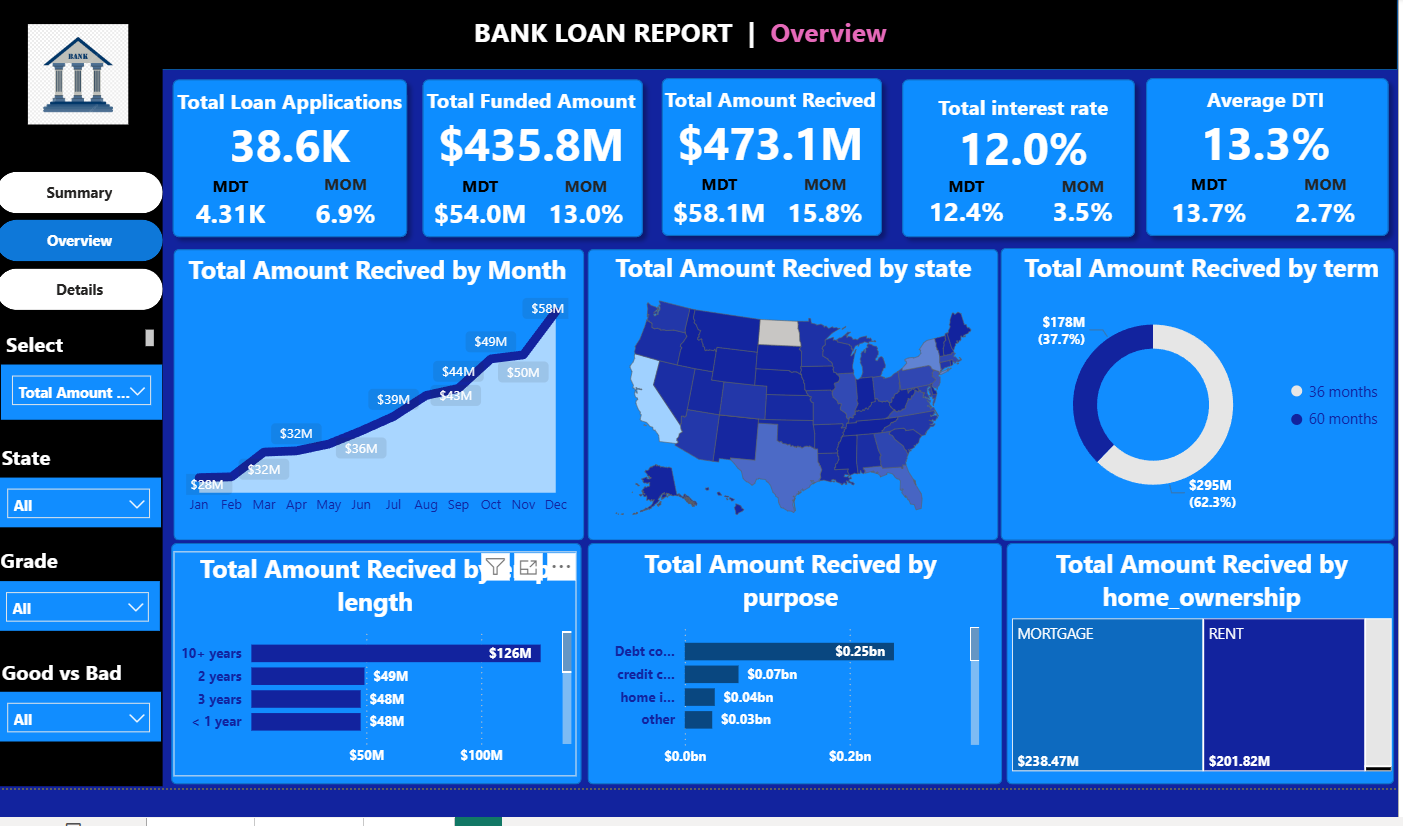

Layout of this report page (visuals, bound fields, positions):
{"tool":"powerbi","page":{"name":"Overview","canvas":[1280,720],"ordinal":1},"visuals":[{"type":"shape","box":[0,0,1280.1,65.8],"z":0},{"type":"textbox","box":[431.8,8.9,416.6,46.8],"z":1000},{"type":"shape","box":[0,0,153.2,719.2],"z":2000},{"type":"shape","box":[599.6,64.1,218.9,162.1],"z":3000,"group":"g3"},{"type":"shape","box":[1040.3,64.1,239.3,162.1],"z":3000,"group":"g5"},{"type":"shape","box":[819.2,64.8,230.4,162.1],"z":3000,"group":"g4"},{"type":"group","id":"g1","title":"Group 1","box":[149.2,65.5,241.2,163.1],"z":3000},{"type":"shape","box":[153.7,65.5,232,162.1],"z":3000,"group":"g1"},{"type":"shape","box":[380.7,65.5,219,162.1],"z":3000,"group":"g2"},{"type":"group","id":"g2","title":"Group 1","box":[380.7,65.5,218.9,161.8],"z":4000},{"type":"card","title":"Total Amount Recived","fields":{"Values":["financial_loan.Total Amount Recived"]},"box":[599.7,79.2,216.2,78.8],"z":4000,"group":"g3"},{"type":"card","title":"Average DTI","fields":{"Values":["financial_loan.Avg DTI"]},"box":[1040.4,79.2,236.3,78.8],"z":4000,"group":"g5"},{"type":"card","title":"Total Funded Amount","fields":{"Values":["financial_loan.Total_Amount"]},"box":[380.8,80.6,216.3,78.8],"z":4000,"group":"g2"},{"type":"card","title":"Total Loan Applications","fields":{"Values":["Date Table.Total_Apps"]},"box":[149.2,81.5,240.1,77.3],"z":4000,"group":"g1"},{"type":"card","title":"Total interest rate","fields":{"Values":["financial_loan.Total Int Rate"]},"box":[820,86.2,236.8,72.3],"z":4000,"group":"g4"},{"type":"group","id":"g3","title":"Group 1","box":[599.6,64.1,218.9,163.1],"z":5000},{"type":"card","title":"MDT","fields":{"Values":["financial_loan.MTD Total Amount Recived"]},"box":[608.9,159.4,103.5,54.4],"z":5000,"group":"g3"},{"type":"card","title":"MDT","fields":{"Values":["financial_loan.MTD Avg DTI"]},"box":[1050.4,159.4,113.1,54.4],"z":5000,"group":"g5"},{"type":"card","title":"MDT","fields":{"Values":["financial_loan.MTD Total intrest rate"]},"box":[830,159.8,113.4,49.9],"z":5000,"group":"g4"},{"type":"card","title":"MDT","fields":{"Values":["financial_loan.MTD Total Amount"]},"box":[390,160.8,103.5,54.4],"z":5000,"group":"g2"},{"type":"card","title":"MDT","fields":{"Values":["Date Table.MTD Loan Application"]},"box":[178,161.5,73.6,54.4],"z":5000,"group":"g1"},{"type":"group","id":"g4","title":"Group 1","box":[819.2,64.8,235.7,163.1],"z":6000},{"type":"card","title":"MOM","fields":{"Values":["financial_loan.MoM Total Amount Recived"]},"box":[705.8,159.4,103.5,54.4],"z":6000,"group":"g3"},{"type":"card","title":"MOM","fields":{"Values":["financial_loan.MoM Avg DTI"]},"box":[1156.4,159.4,113.1,54.4],"z":6000,"group":"g5"},{"type":"card","title":"MOM","fields":{"Values":["financial_loan.MoM int rate"]},"box":[936.2,159.8,113.4,49.9],"z":6000,"group":"g4"},{"type":"card","title":"MOM","fields":{"Values":["financial_loan.MoM"]},"box":[277.5,160.2,86.1,55.8],"z":6000,"group":"g1"},{"type":"card","title":"MOM","fields":{"Values":["financial_loan.MoM Total Amount"]},"box":[487,160.8,103.5,54.4],"z":6000,"group":"g2"},{"type":"group","id":"g5","title":"Group 1","box":[0.6,64.1,1279,418.6],"z":7000,"group":"g6"},{"type":"slicer","fields":{"Values":["financial_loan.grade"]},"box":[-0.4,531.6,150.7,45.6],"z":7000},{"type":"slicer","fields":{"Values":["financial_loan.Good vs Bad loan"]},"box":[0.7,632.7,150.7,45.6],"z":8000},{"type":"textbox","box":[5.1,297.5,144.3,36.7],"z":9000},{"type":"textbox","box":[0.1,495.5,77.2,36.7],"z":10000},{"type":"textbox","box":[1.3,596.8,151.1,37.5],"z":11000},{"type":"group","id":"g6","title":"Group 5","box":[0.6,64.1,1279,418.6],"z":12000},{"type":"shape","box":[163.3,229.2,374.8,265.9],"z":13000},{"type":"slicer","fields":{"Values":["Select measure.Select measure"]},"box":[5.1,334.3,146.9,50.6],"z":14000},{"type":"slicer","fields":{"Values":["financial_loan.address_state"]},"box":[0.6,437.2,150.7,45.6],"z":14001,"group":"g5"},{"type":"shape","box":[540.6,229.2,374.8,265.9],"z":15000},{"type":"shapeMap","fields":{"Value":["financial_loan.Total Amount Recived"],"Category":["financial_loan.address_state"]},"box":[538.1,230.4,379.8,257],"z":16000},{"type":"textbox","box":[1.1,401.1,77.2,36.7],"z":16002,"group":"g6"},{"type":"shape","box":[918,227.9,359.6,267.2],"z":17000},{"type":"donutChart","fields":{"Y":["financial_loan.Total Amount Recived"],"Category":["financial_loan.term"]},"box":[926.4,230.6,349.8,251.4],"z":18000},{"type":"shape","box":[160.7,497.5,374.4,220.3],"z":19000},{"type":"barChart","fields":{"Y":["financial_loan.Total Amount Recived"],"Category":["financial_loan.emp_length"]},"box":[163.2,505.3,368,204.7],"z":20000},{"type":"shape","box":[540.3,497.5,378.3,220.3],"z":21000},{"type":"barChart","fields":{"Y":["financial_loan.Total Amount Recived"],"Category":["financial_loan.purpose"]},"box":[548.1,500.1,355,209.9],"z":22000},{"type":"shape","box":[922.5,497.5,353.7,220.3],"z":23000},{"type":"treemap","fields":{"Values":["financial_loan.Total Amount Recived"],"Group":["financial_loan.home_ownership"]},"box":[922.5,500.1,356.3,209.9],"z":24000},{"type":"areaChart","fields":{"Y":["financial_loan.Total Amount Recived"],"Category":["Date Table.Month"]},"box":[169,232,359,248],"z":25000},{"type":"pageNavigator","box":[1.5,158.7,152.8,126.4],"z":25001},{"type":"image","box":[25,8.8,101.4,122],"z":25002}]}

Visuals, with their boxes on the page's 1280x720 design canvas (x1, y1, x2, y2). These are canvas units, not pixel positions in the 1403x826 screenshot, which may show the page scaled, cropped or inside an application window:
shape: [x1=0, y1=0, x2=1280, y2=66]
textbox: [x1=432, y1=9, x2=848, y2=56]
shape: [x1=0, y1=0, x2=153, y2=719]
shape: [x1=600, y1=64, x2=818, y2=226]
shape: [x1=1040, y1=64, x2=1280, y2=226]
shape: [x1=819, y1=65, x2=1050, y2=227]
"Group 1" group: [x1=149, y1=66, x2=390, y2=229]
shape: [x1=154, y1=66, x2=386, y2=228]
shape: [x1=381, y1=66, x2=600, y2=228]
"Group 1" group: [x1=381, y1=66, x2=600, y2=227]
"Total Amount Recived" card: [x1=600, y1=79, x2=816, y2=158]
"Average DTI" card: [x1=1040, y1=79, x2=1277, y2=158]
"Total Funded Amount" card: [x1=381, y1=81, x2=597, y2=159]
"Total Loan Applications" card: [x1=149, y1=82, x2=389, y2=159]
"Total interest rate" card: [x1=820, y1=86, x2=1057, y2=158]
"Group 1" group: [x1=600, y1=64, x2=818, y2=227]
"MDT" card: [x1=609, y1=159, x2=712, y2=214]
"MDT" card: [x1=1050, y1=159, x2=1164, y2=214]
"MDT" card: [x1=830, y1=160, x2=943, y2=210]
"MDT" card: [x1=390, y1=161, x2=494, y2=215]
"MDT" card: [x1=178, y1=162, x2=252, y2=216]
"Group 1" group: [x1=819, y1=65, x2=1055, y2=228]
"MOM" card: [x1=706, y1=159, x2=809, y2=214]
"MOM" card: [x1=1156, y1=159, x2=1270, y2=214]
"MOM" card: [x1=936, y1=160, x2=1050, y2=210]
"MOM" card: [x1=278, y1=160, x2=364, y2=216]
"MOM" card: [x1=487, y1=161, x2=590, y2=215]
"Group 1" group: [x1=1, y1=64, x2=1280, y2=483]
slicer - financial_loan.grade: [x1=0, y1=532, x2=150, y2=577]
slicer - financial_loan.Good vs Bad loan: [x1=1, y1=633, x2=151, y2=678]
textbox: [x1=5, y1=298, x2=149, y2=334]
textbox: [x1=0, y1=496, x2=77, y2=532]
textbox: [x1=1, y1=597, x2=152, y2=634]
"Group 5" group: [x1=1, y1=64, x2=1280, y2=483]
shape: [x1=163, y1=229, x2=538, y2=495]
slicer - Select measure.Select measure: [x1=5, y1=334, x2=152, y2=385]
slicer - financial_loan.address_state: [x1=1, y1=437, x2=151, y2=483]
shape: [x1=541, y1=229, x2=915, y2=495]
shapeMap - financial_loan.Total Amount Recived x financial_loan.address_state: [x1=538, y1=230, x2=918, y2=487]
textbox: [x1=1, y1=401, x2=78, y2=438]
shape: [x1=918, y1=228, x2=1278, y2=495]
donutChart - financial_loan.Total Amount Recived x financial_loan.term: [x1=926, y1=231, x2=1276, y2=482]
shape: [x1=161, y1=498, x2=535, y2=718]
barChart - financial_loan.Total Amount Recived x financial_loan.emp_length: [x1=163, y1=505, x2=531, y2=710]
shape: [x1=540, y1=498, x2=919, y2=718]
barChart - financial_loan.Total Amount Recived x financial_loan.purpose: [x1=548, y1=500, x2=903, y2=710]
shape: [x1=922, y1=498, x2=1276, y2=718]
treemap - financial_loan.Total Amount Recived x financial_loan.home_ownership: [x1=922, y1=500, x2=1279, y2=710]
areaChart - financial_loan.Total Amount Recived x Date Table.Month: [x1=169, y1=232, x2=528, y2=480]
pageNavigator: [x1=2, y1=159, x2=154, y2=285]
image: [x1=25, y1=9, x2=126, y2=131]
